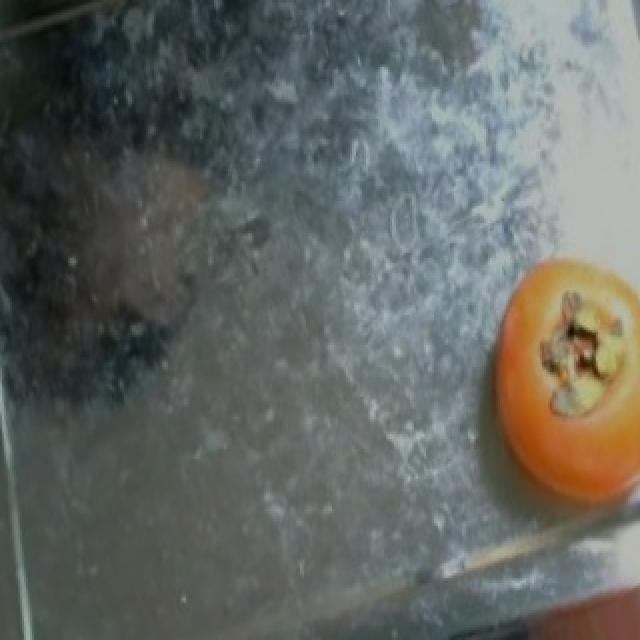Fruit: (460, 236, 640, 548), (488, 528, 640, 640)
